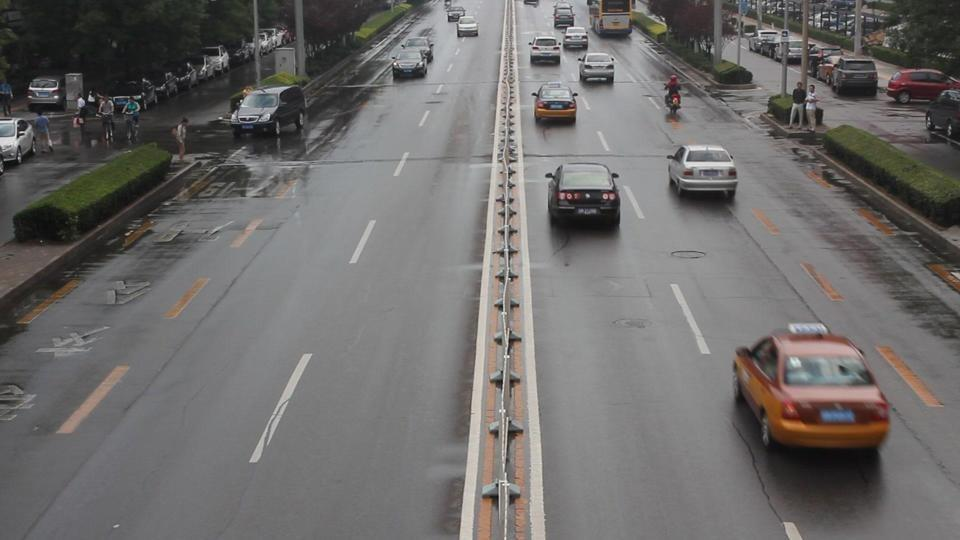car: (732, 323, 891, 452), (545, 162, 622, 227), (230, 85, 308, 137), (667, 143, 739, 198), (885, 69, 960, 103), (532, 79, 578, 125), (924, 90, 960, 148), (829, 57, 878, 97), (0, 118, 32, 166), (26, 77, 66, 112), (396, 34, 434, 69), (577, 51, 616, 85), (391, 46, 429, 79), (199, 45, 230, 78), (529, 36, 562, 65), (562, 27, 589, 50), (552, 1, 574, 29), (456, 15, 478, 38), (445, 5, 464, 22)
